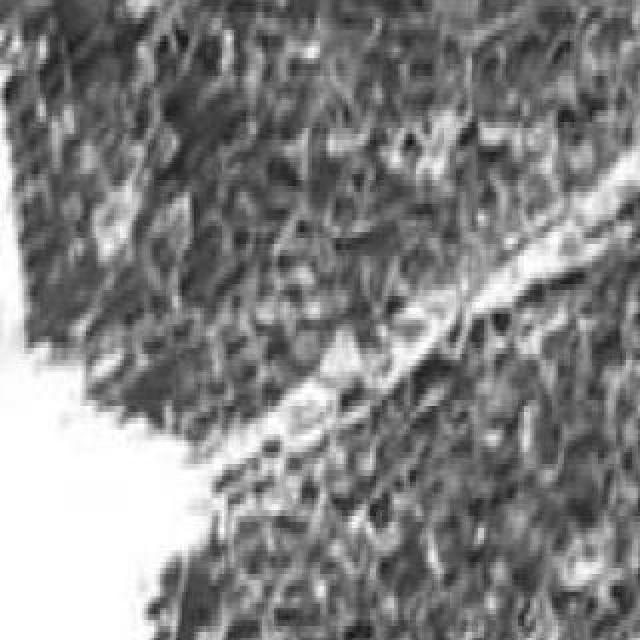Physical-damage: (12, 11, 628, 630)
